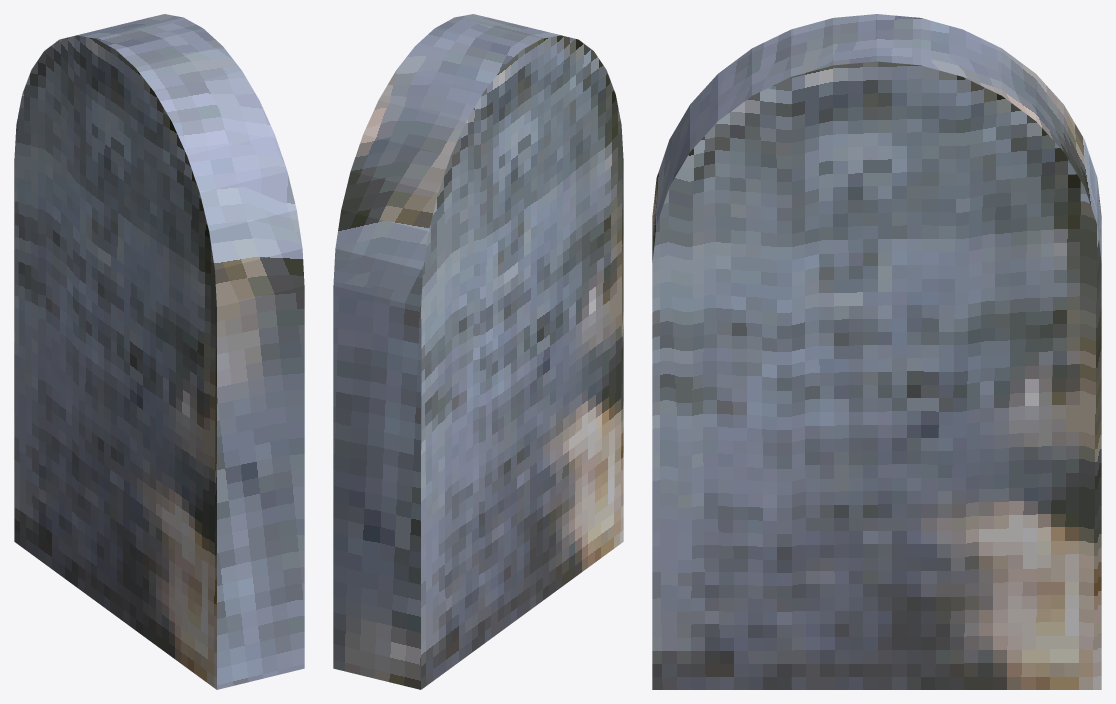
The model's file is GravestoneNew.fbx.
The picture shows the model from 3 angles, left to right: view 1: azimuth 30°, elevation 25°; view 2: azimuth 150°, elevation 25°; view 3: azimuth 270°, elevation 25°; orthographic projection. The views are drawn at different scales.
Parts seen in each view (by area): view 1: Circle; view 2: Circle; view 3: Circle.
Part boxes in pixels (box(x1,y1,x2,y2)): Circle: box(14, 14, 304, 689); Circle: box(333, 14, 623, 689); Circle: box(652, 14, 1101, 689).
Bounding box in the file's own units: 50 × 309 × 200.
